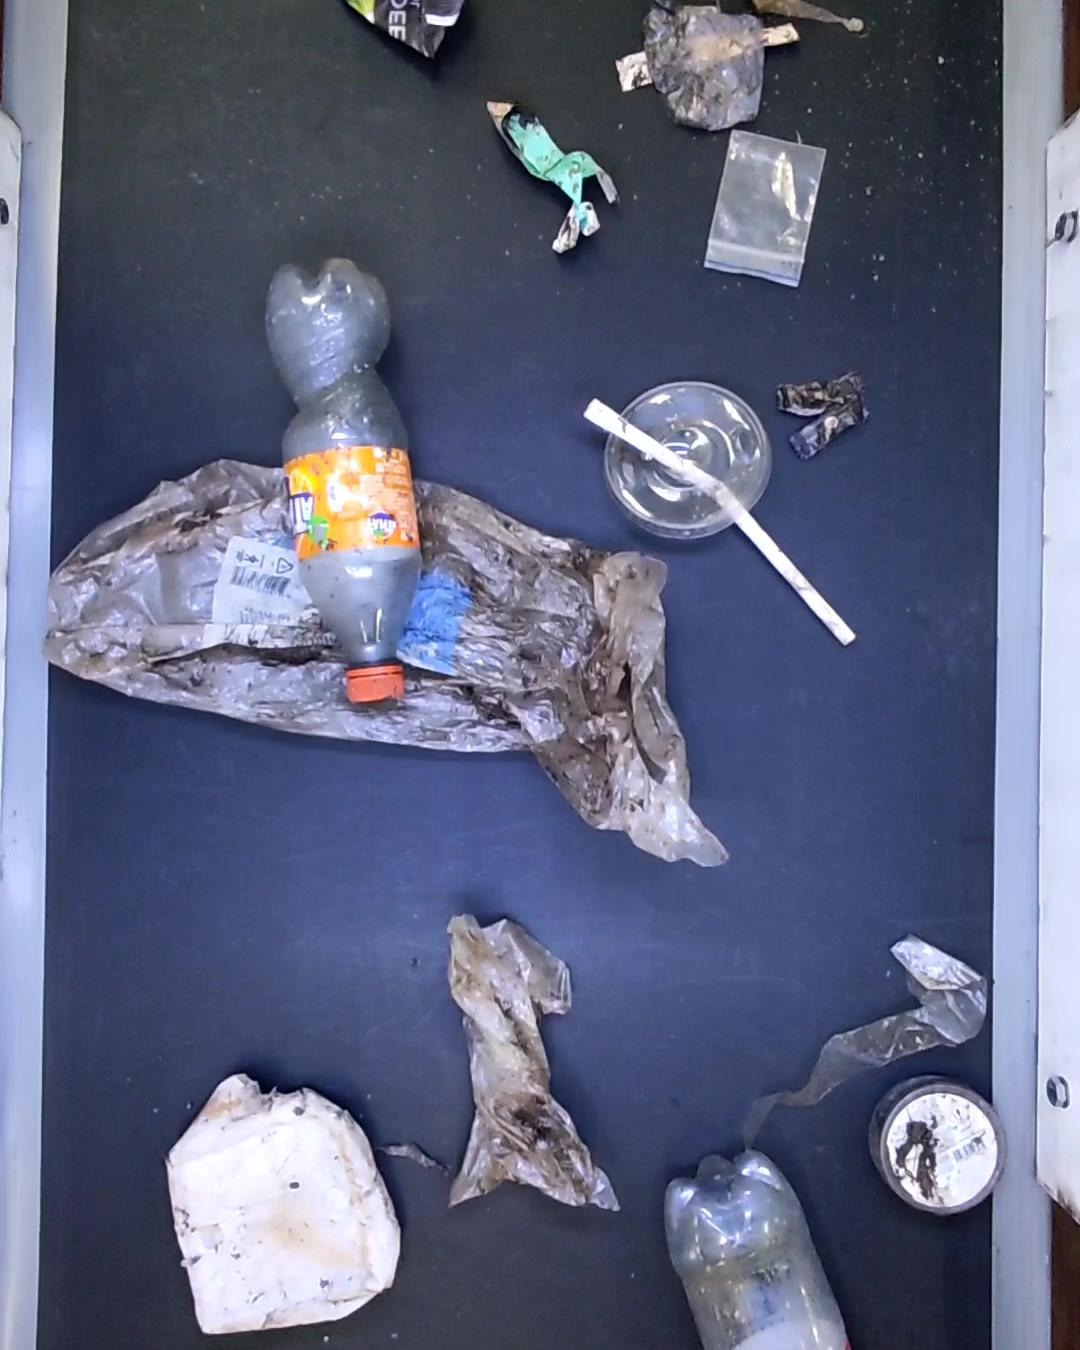Drankflessen - 1-2 liter: (260, 253, 433, 706), (660, 1143, 852, 1350)
Plastic folies of stukken daarvan 2.5- 50 cm: (45, 461, 735, 871), (434, 911, 627, 1211), (735, 931, 998, 1142), (642, 0, 762, 131), (759, 0, 864, 32)
Snoep snack en chips verpakkingen: (774, 364, 872, 458)
Voedselverpakkingen: (346, 0, 463, 56)
